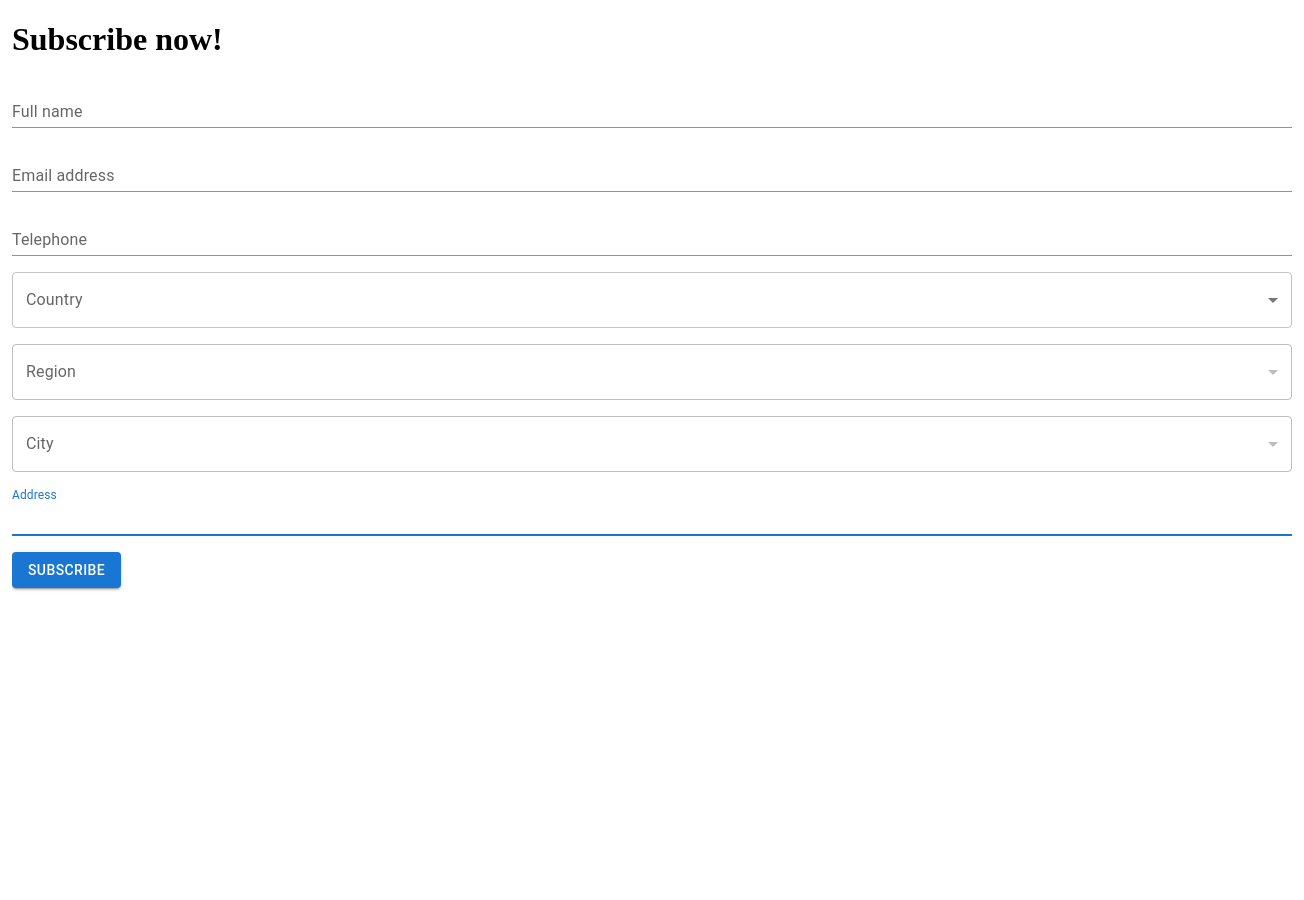
Test: Subscribe › should successfully submit the form if the data is valid
The width and height of the screenshot is (1304, 900).
Type "Arnar Leifsson" into the field labelled "Full name" at (652, 112), box [12,96,1292,128]
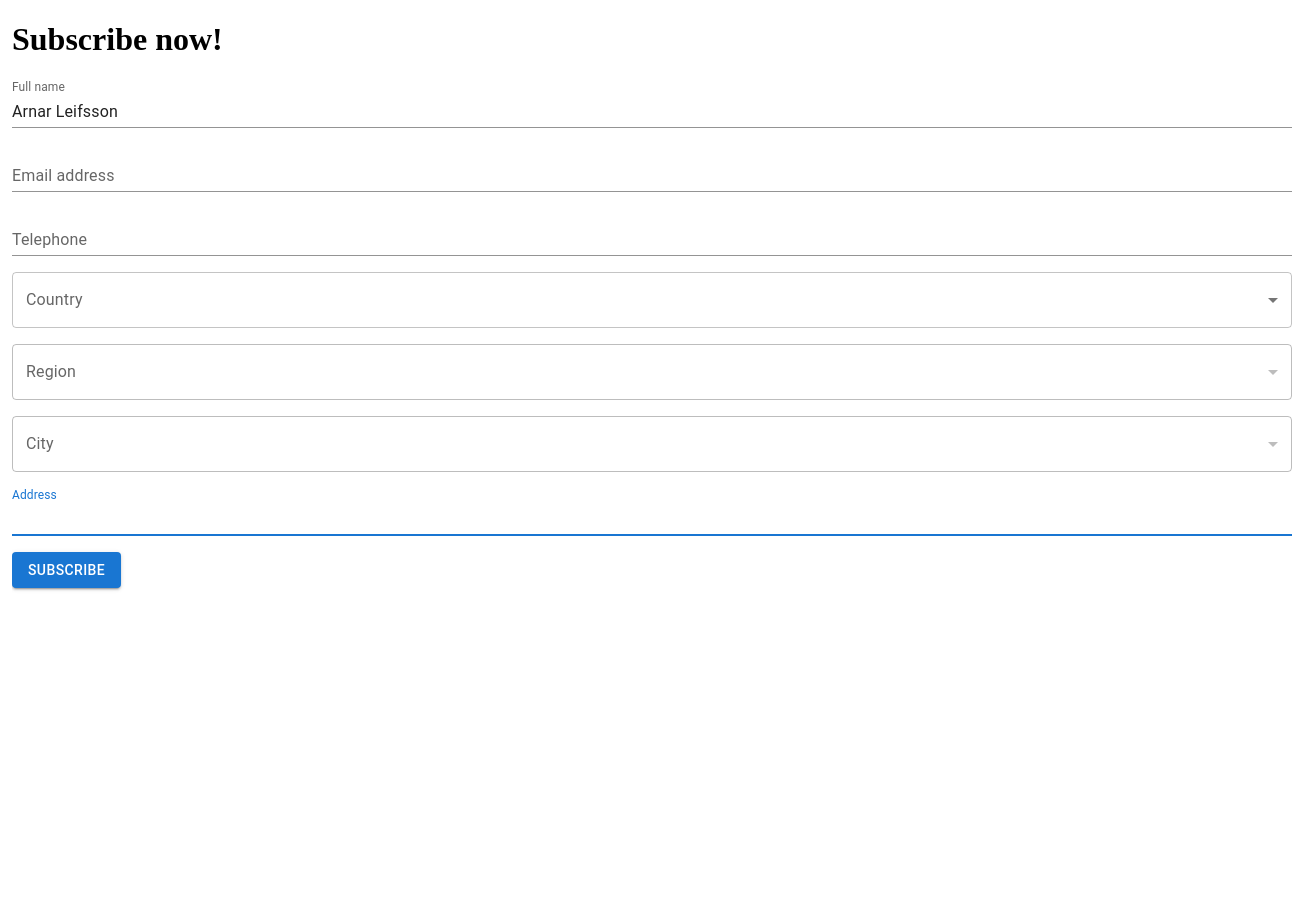
Type "arnarl@ru.is" into the field labelled "Email address" at (652, 176), box [12,160,1292,192]
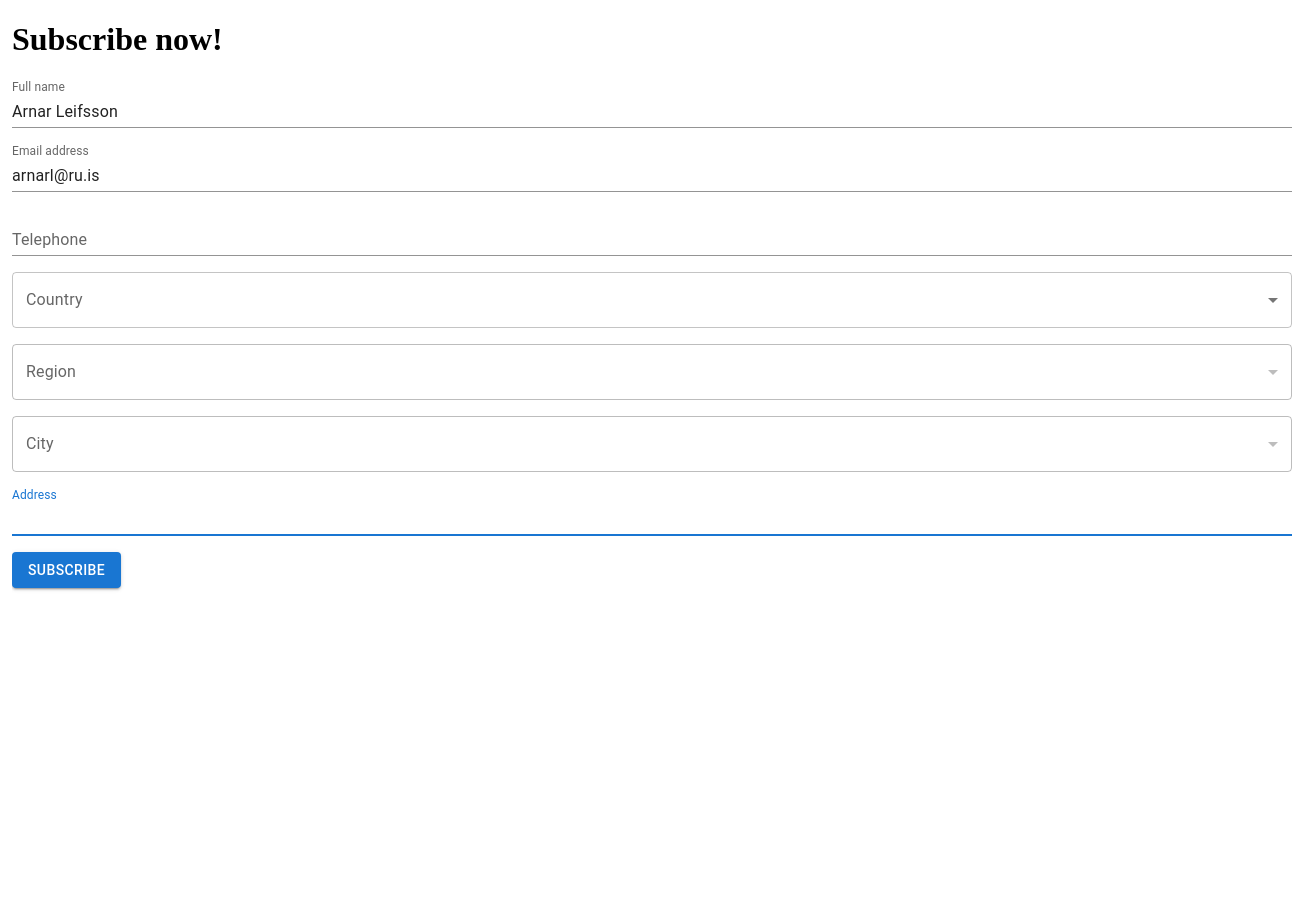
Type "8235194" into the field labelled "Telephone" at (652, 240), box [12,224,1292,256]
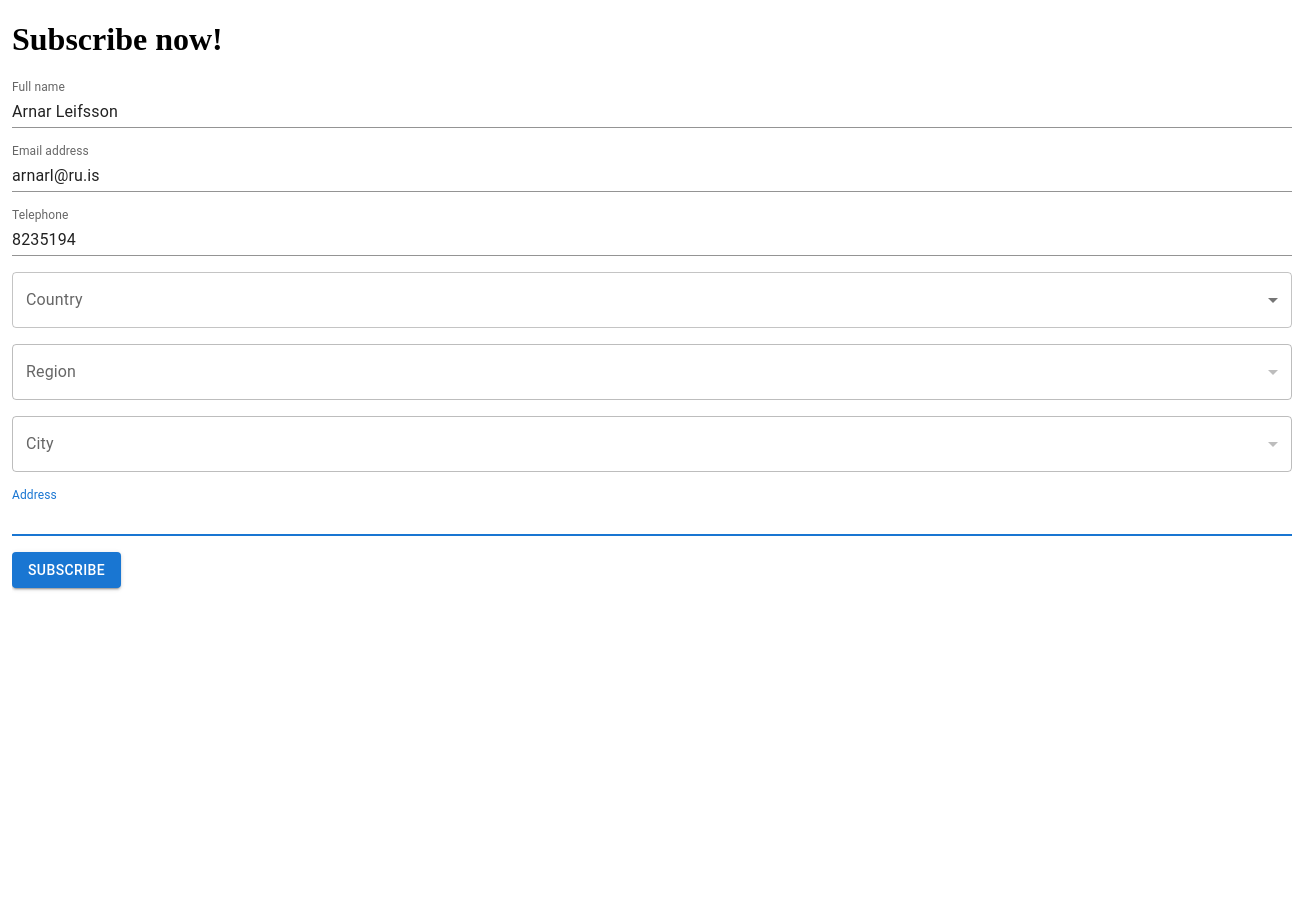
Type "Menntavegur 1" into the field labelled "Address" at (652, 520), box [12,504,1292,536]
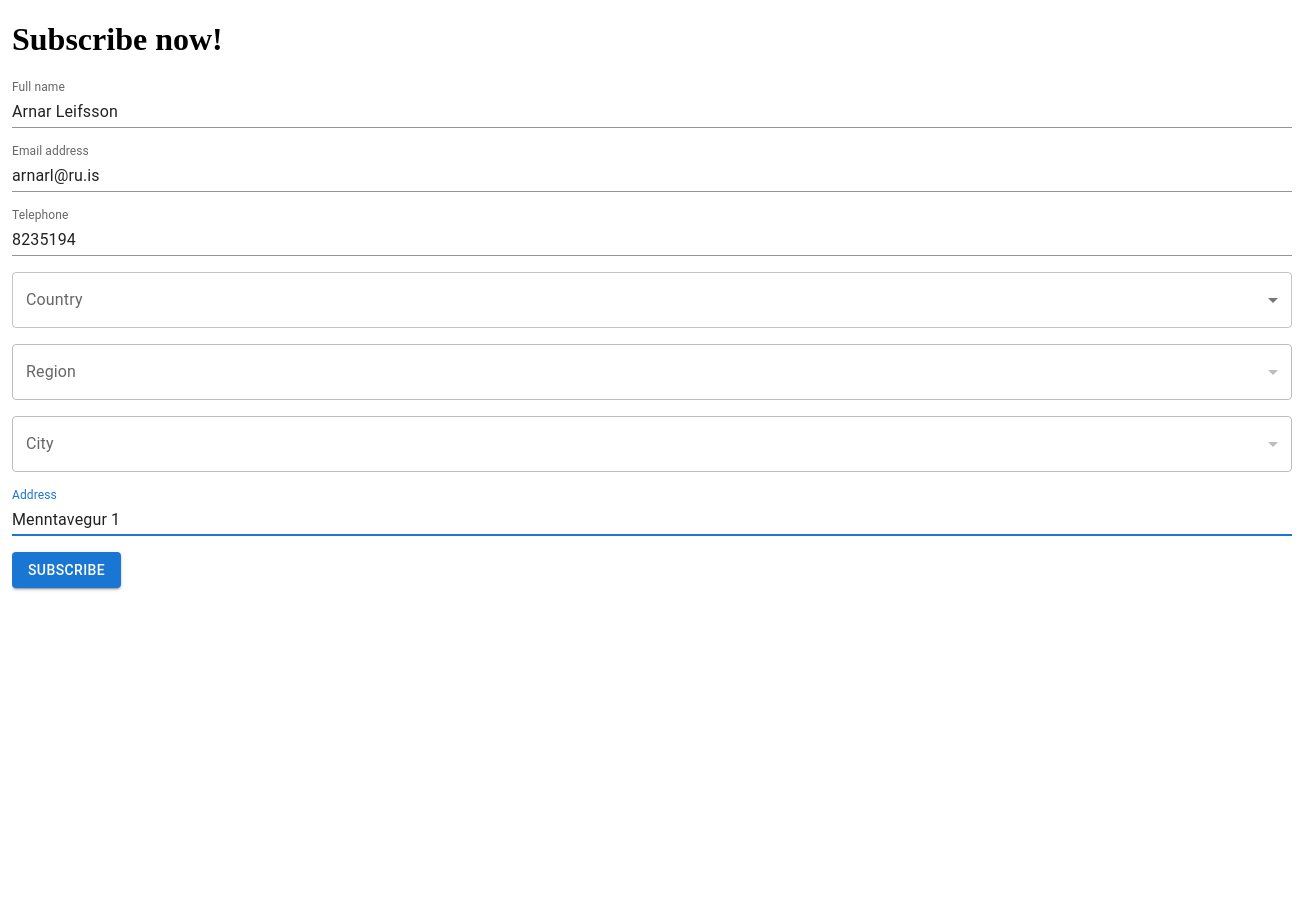
Submit the form with test id "form", box [12,80,1292,588]
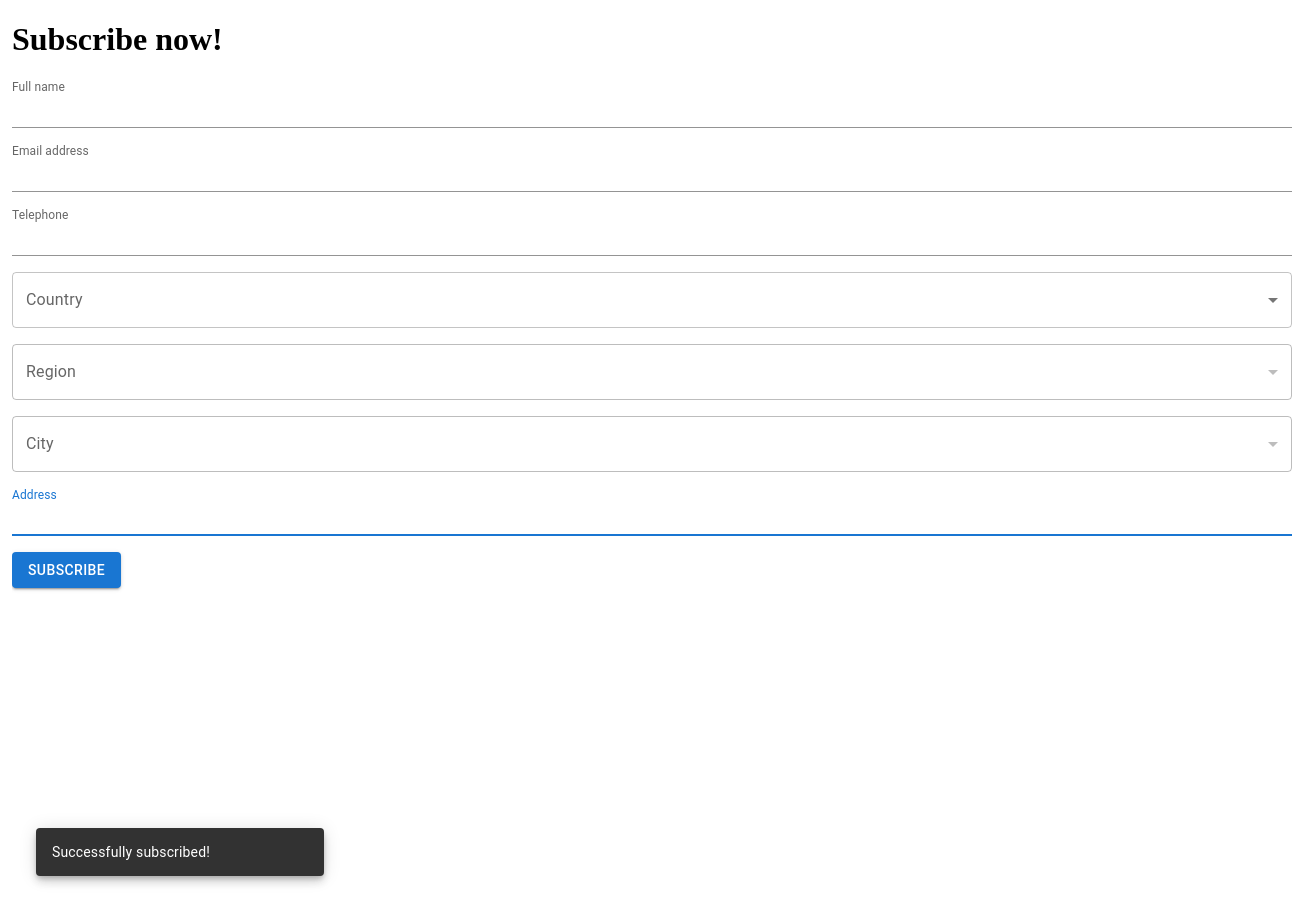
Now the text "Successfully subscribed!" is shown, box [52,844,210,860]
